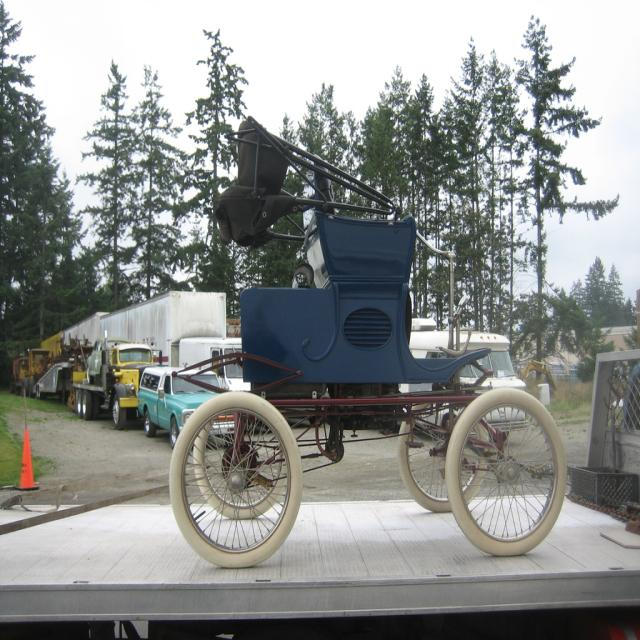car: (138, 359, 235, 448)
